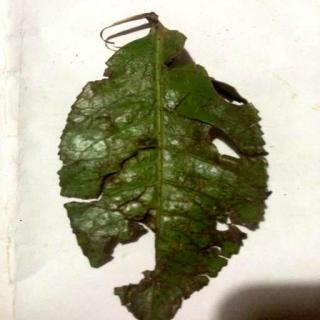Red Leaf Spot: (60, 12, 269, 320)
